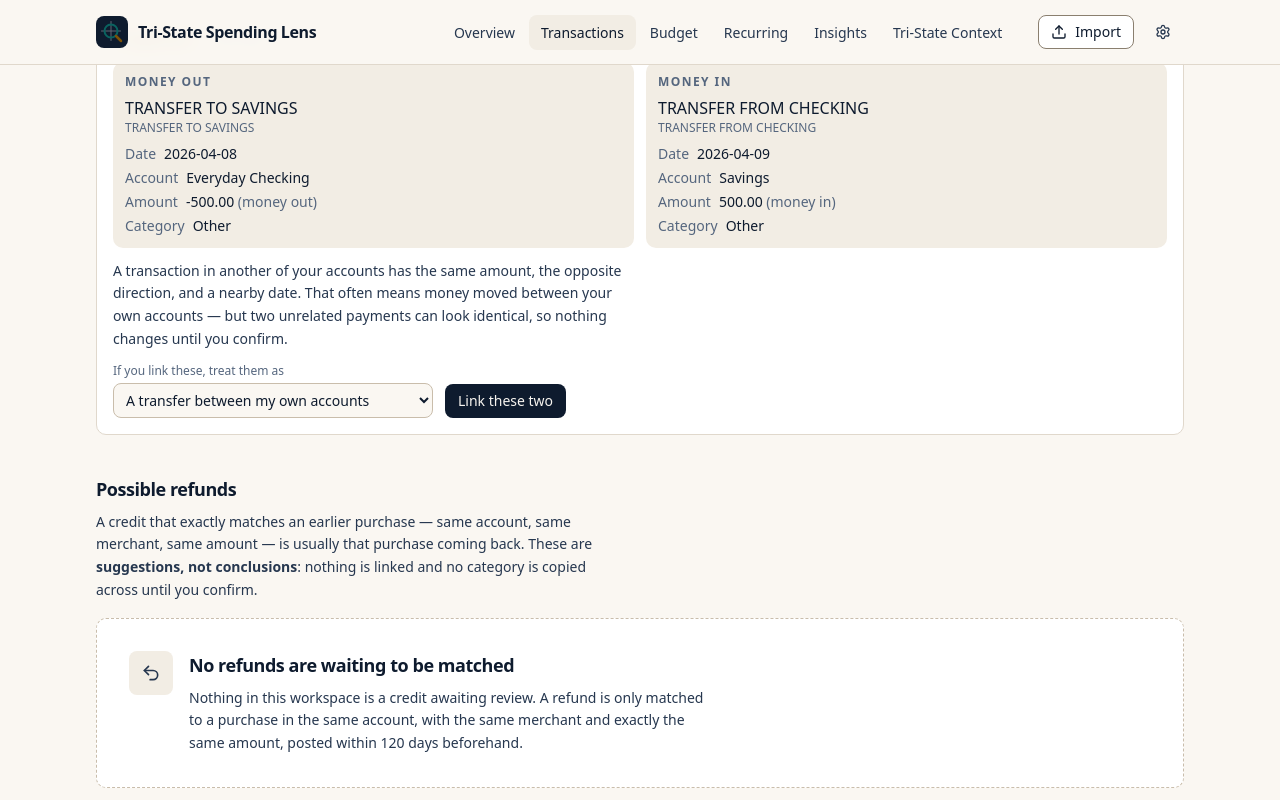
Test case: unlinking and undo › warns that undo does not survive a reload
(page scrolled)
Step 1. Click the button "Link these two" → click(506, 400), box [445,384,566,418]
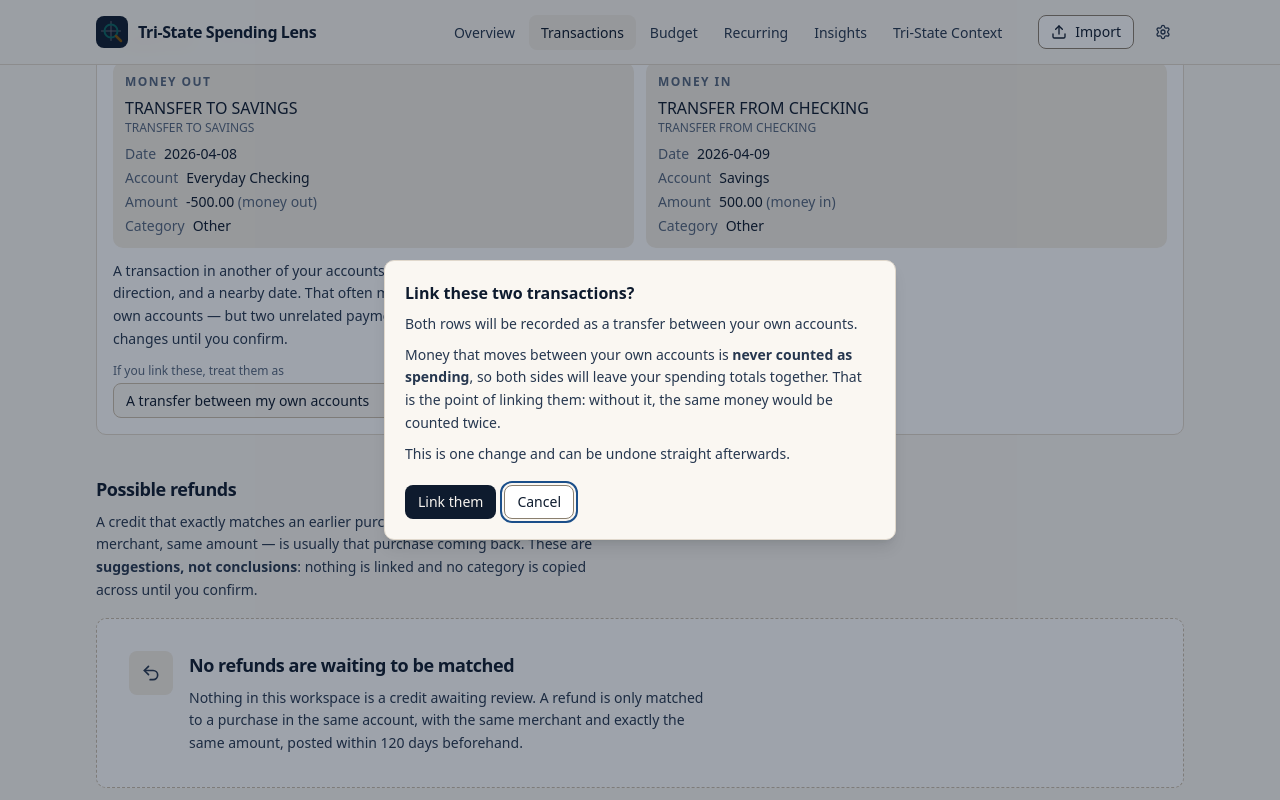
Step 2. Click the button "Link them" → click(451, 502), box [405,485,496,519]
(page scrolled)
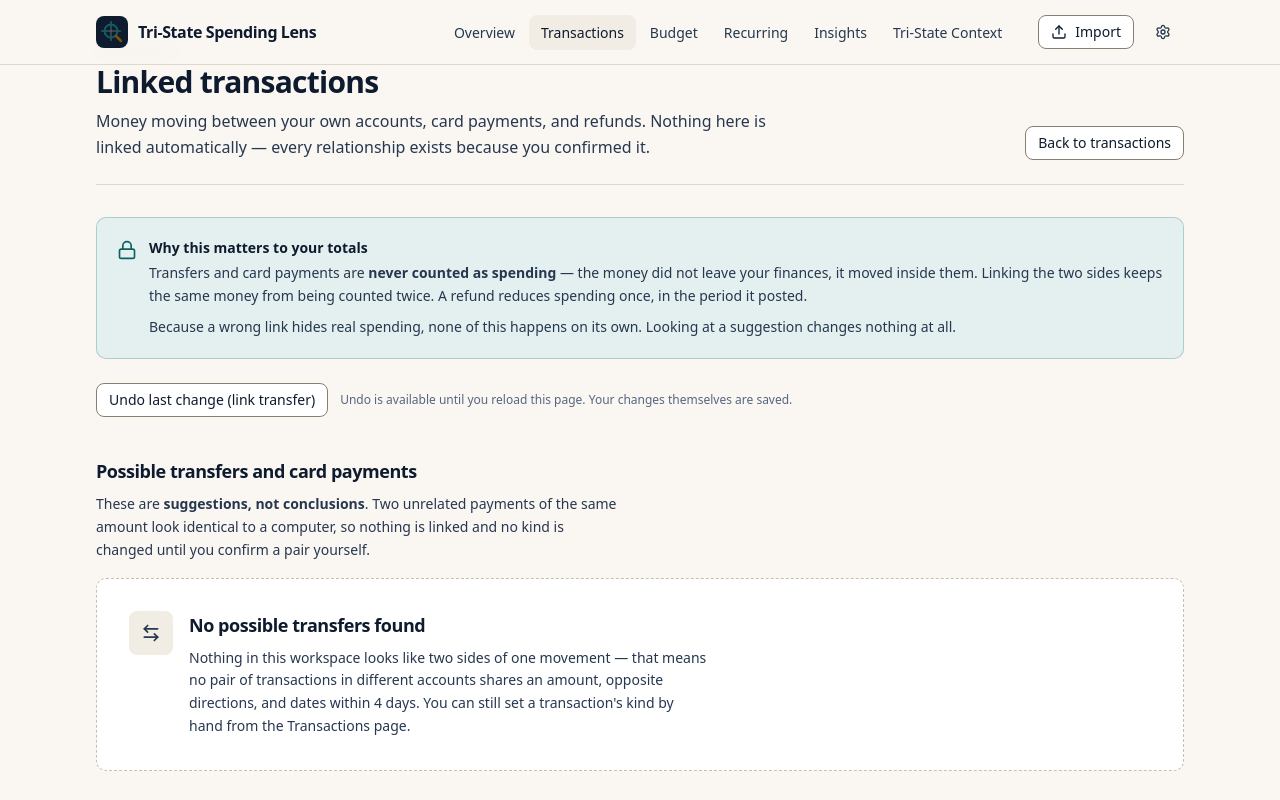
Now the text "until you reload this page" is shown, box [340,391,792,408]
